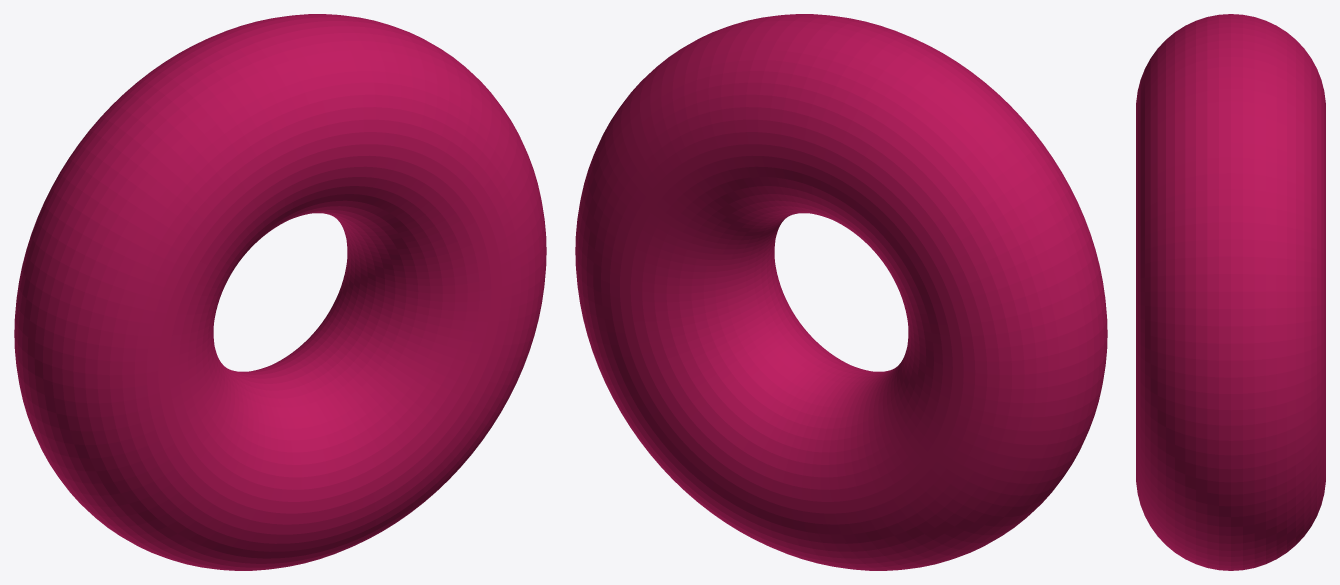
3 renders of one model, left to right at view 1: azimuth 30°, elevation 25°; view 2: azimuth 150°, elevation 25°; view 3: azimuth 270°, elevation 25°, orthographic. The views are drawn at different scales.
Parts seen in each view (by area): view 1: world; view 2: world; view 3: world.
Boxes of the visible parts, box(x1,y1,x2,y2) form: world: box(14, 14, 546, 570); world: box(575, 14, 1107, 570); world: box(1136, 14, 1325, 570).
Bounding box in the file's own units: 22.27 × 22.27 × 7.59.
